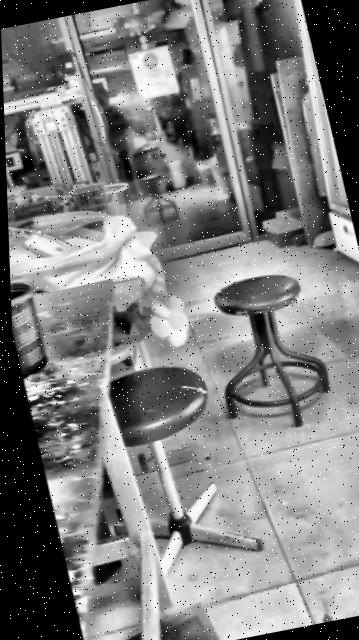pot: (11, 283, 45, 377)
